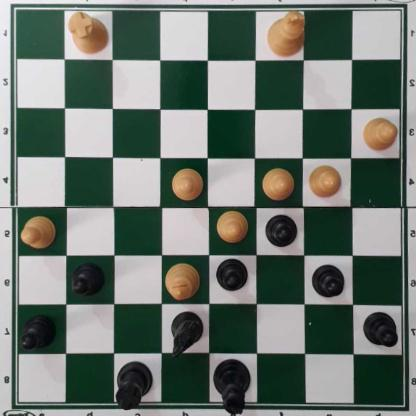black-king: (212, 357, 252, 415)
black-knight: (168, 313, 203, 357)
black-pawn: (362, 312, 399, 349), (20, 316, 56, 354), (69, 264, 105, 299), (214, 260, 248, 296), (311, 265, 345, 300), (264, 215, 297, 250)
black-rook: (114, 363, 155, 412)
white-bishop: (165, 261, 201, 303)
white-king: (266, 10, 306, 58)
white-pawn: (360, 117, 398, 154), (19, 216, 56, 251), (214, 211, 250, 245), (308, 165, 342, 201), (261, 168, 294, 204), (170, 169, 204, 201)
white-rook: (68, 13, 109, 56)
